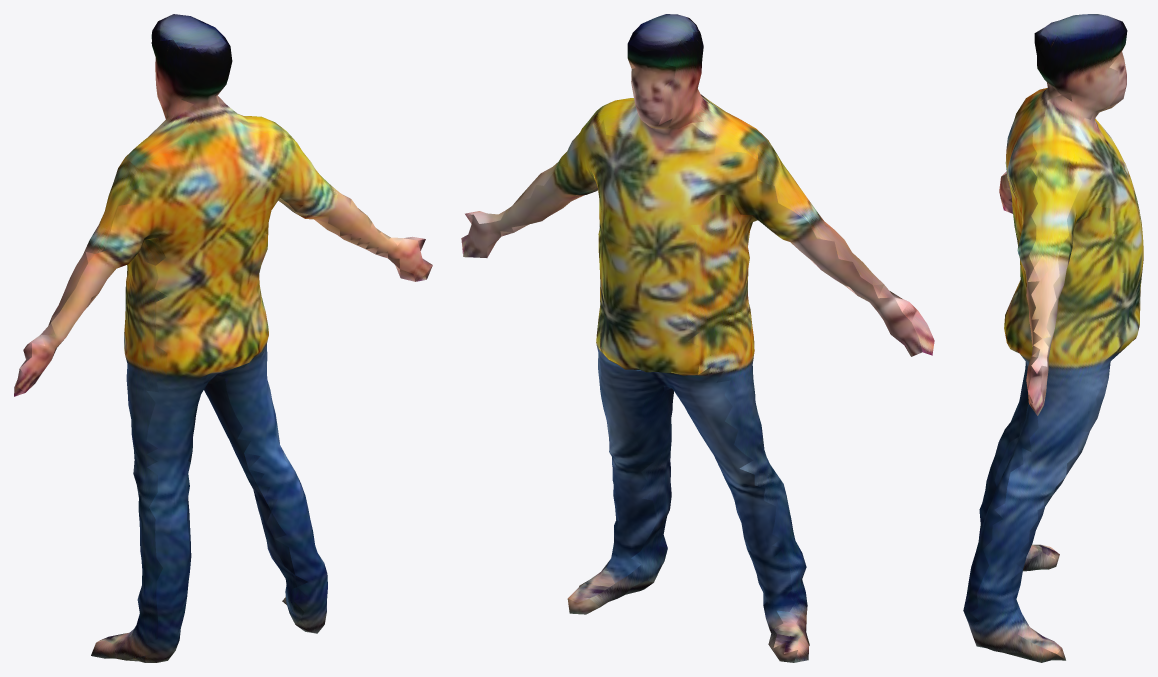
3 renders of one model, left to right at view 1: azimuth 30°, elevation 25°; view 2: azimuth 150°, elevation 25°; view 3: azimuth 270°, elevation 25°, orthographic. The views are drawn at different scales.
Parts seen in each view (by area): view 1: world; view 2: world; view 3: world.
Part boxes in pixels (x1,y1,x2,y2): world: (14,14,432,662); world: (461,14,934,662); world: (963,14,1143,662).
Bounding box in the file's own units: 0.7704 × 1 × 0.2768.
1 material, 1 textured.
